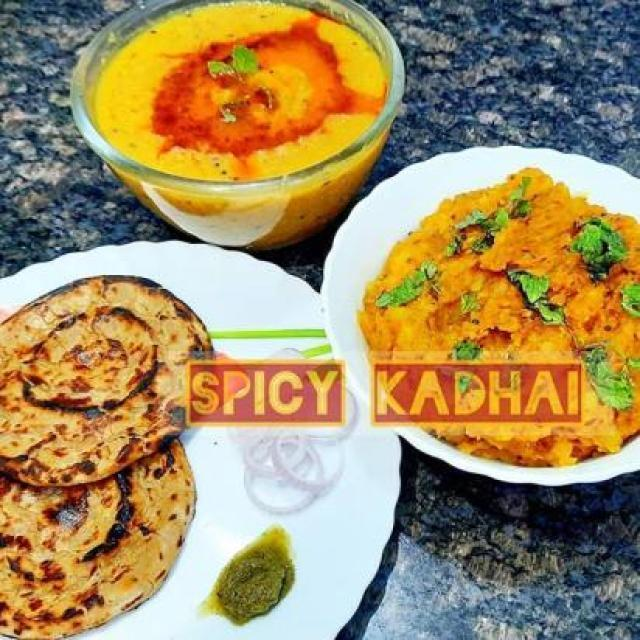dal: (62, 2, 412, 215)
